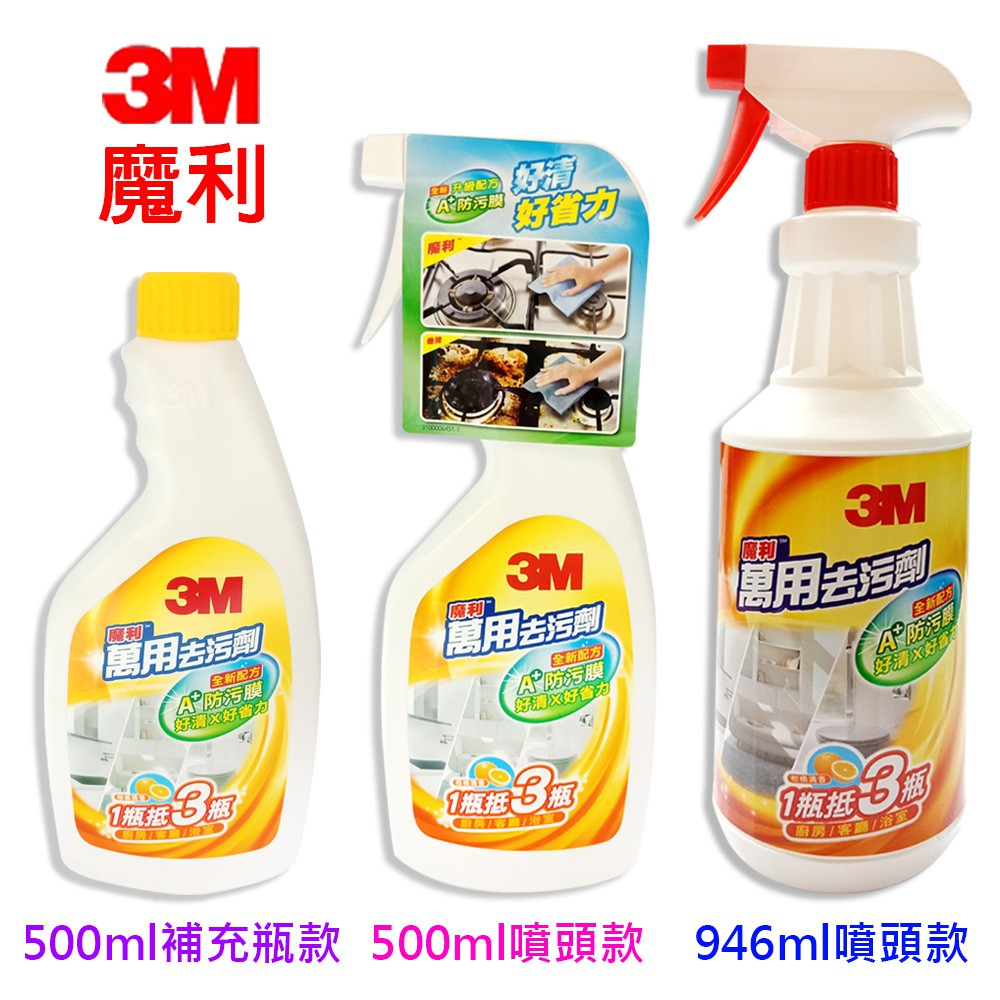cleaner: (680, 27, 987, 897), (338, 127, 653, 901), (36, 267, 315, 905)
